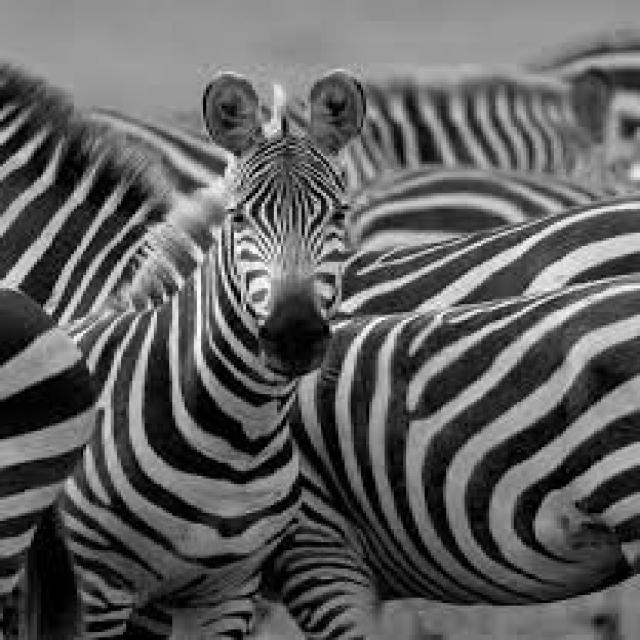Zebra: (56, 67, 366, 640), (379, 86, 640, 601)
